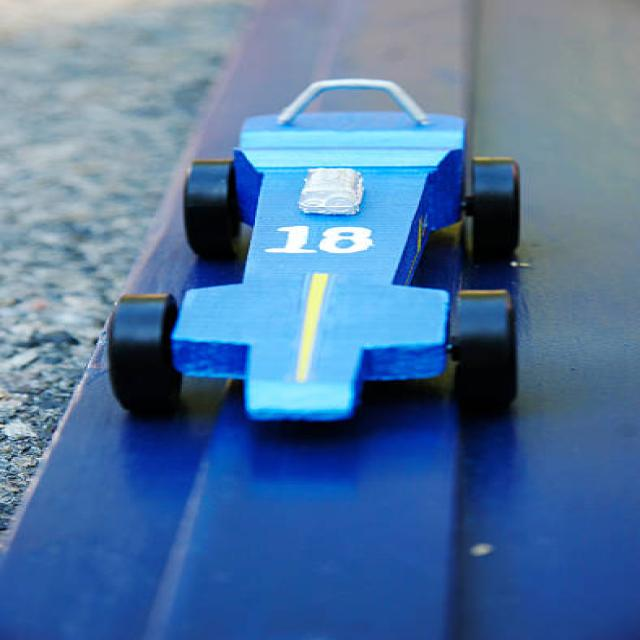Car: (106, 76, 528, 422)
